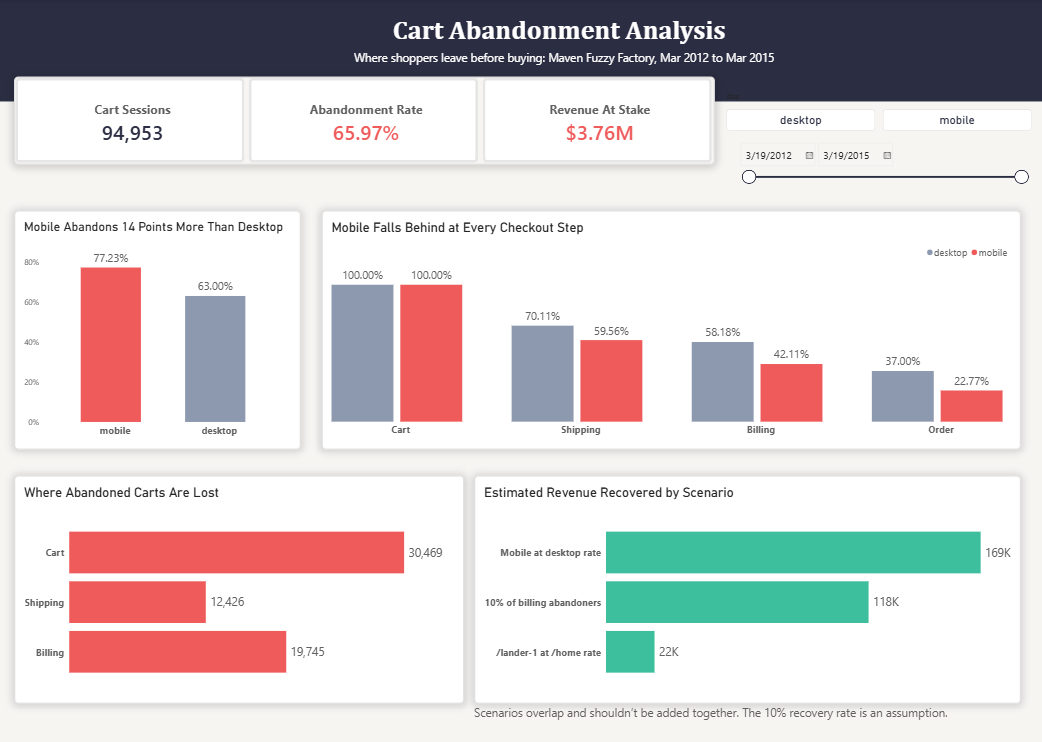

This screenshot's page, from the dashboard's own definition file:
{"tool":"powerbi","page":{"name":"Page 1","canvas":[1920,1370],"ordinal":0},"visuals":[{"type":"shape","box":[0,0,1920.1,188.2],"z":0},{"type":"cardVisual","fields":{"Data":["store session_funnel.Cart Sessions","store session_funnel.Abandonment Rate","store session_funnel.Revenue At Stake"]},"box":[27.5,142.5,1287.5,162.5],"z":1000},{"type":"columnChart","title":"Mobile Abandons 14 Points More Than Desktop","fields":{"Category":["store session_funnel.device_type"],"Y":["store session_funnel.Abandonment Rate"]},"box":[27.5,387.5,527.5,440],"z":2000},{"type":"clusteredColumnChart","title":"Mobile Falls Behind at Every Checkout Step","fields":{"Category":["Funnel Steps.Step"],"Series":["store session_funnel.device_type"],"Y":["store session_funnel.% of Cart Sessions"]},"box":[592.5,387.5,1285,440],"z":3000},{"type":"barChart","title":"Estimated Revenue Recovered by Scenario","fields":{"Category":["Recovery.Scenario"],"Y":["Sum(Recovery.Revenue)"]},"box":[872.5,875,1005,420],"z":4000},{"type":"textbox","box":[724,28,988,320],"z":5000},{"type":"clusteredBarChart","title":"Where Abandoned Carts Are Lost","fields":{"Category":["Funnel Steps.Step"],"Y":["store session_funnel.Abandoned At Stage"]},"box":[27.5,875,827.5,420],"z":6000},{"type":"advancedSlicerVisual","title":"dsa","fields":{"Values":["store session_funnel.device_type"]},"box":[1335,170,560,72.5],"z":7000},{"type":"slicer","fields":{"Values":["store session_funnel.created_at"]},"box":[1355,260,540,87.5],"z":8000},{"type":"textbox","box":[872.5,1295,1005,50],"z":9000},{"type":"textbox","box":[652.5,92.5,795,50],"z":10000}]}

Visuals, with their boxes in screenshot pixels (x1, y1, x2, y2), scaled from the page's 1920x1370 canvas onto the 1042x742 screenshot:
shape: [x1=0, y1=0, x2=1041, y2=102]
cardVisual - store session_funnel.Cart Sessions x store session_funnel.Abandonment Rate: [x1=15, y1=77, x2=714, y2=165]
"Mobile Abandons 14 Points More Than Desktop" columnChart: [x1=15, y1=210, x2=301, y2=448]
"Mobile Falls Behind at Every Checkout Step" clusteredColumnChart: [x1=322, y1=210, x2=1019, y2=448]
"Estimated Revenue Recovered by Scenario" barChart: [x1=474, y1=474, x2=1019, y2=701]
textbox: [x1=393, y1=15, x2=929, y2=188]
"Where Abandoned Carts Are Lost" clusteredBarChart: [x1=15, y1=474, x2=464, y2=701]
"dsa" advancedSlicerVisual: [x1=725, y1=92, x2=1028, y2=131]
slicer - store session_funnel.created_at: [x1=735, y1=141, x2=1028, y2=188]
textbox: [x1=474, y1=701, x2=1019, y2=728]
textbox: [x1=354, y1=50, x2=786, y2=77]
